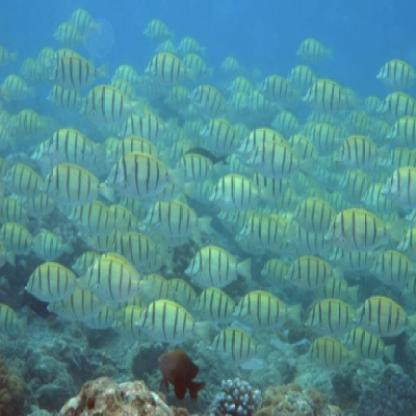Acanthuridae -Surgeonfishes-: (136, 297, 219, 354), (324, 204, 404, 254), (41, 160, 117, 209), (82, 255, 159, 303), (235, 131, 311, 177), (231, 287, 305, 333), (104, 154, 188, 194), (181, 244, 256, 288), (77, 81, 149, 126), (142, 198, 214, 241), (38, 123, 106, 165), (352, 294, 416, 338), (23, 262, 89, 302), (300, 73, 362, 115), (210, 327, 276, 366), (208, 170, 274, 209), (300, 298, 362, 337), (46, 52, 108, 90), (333, 130, 393, 169), (238, 212, 296, 251), (289, 192, 342, 234), (138, 50, 199, 84), (305, 335, 361, 371), (369, 247, 415, 286), (198, 115, 246, 152), (3, 159, 50, 194), (381, 165, 416, 211), (188, 84, 234, 115), (372, 57, 416, 89), (258, 69, 300, 102), (296, 34, 339, 65), (141, 14, 179, 41), (388, 112, 416, 148), (52, 18, 89, 43)
